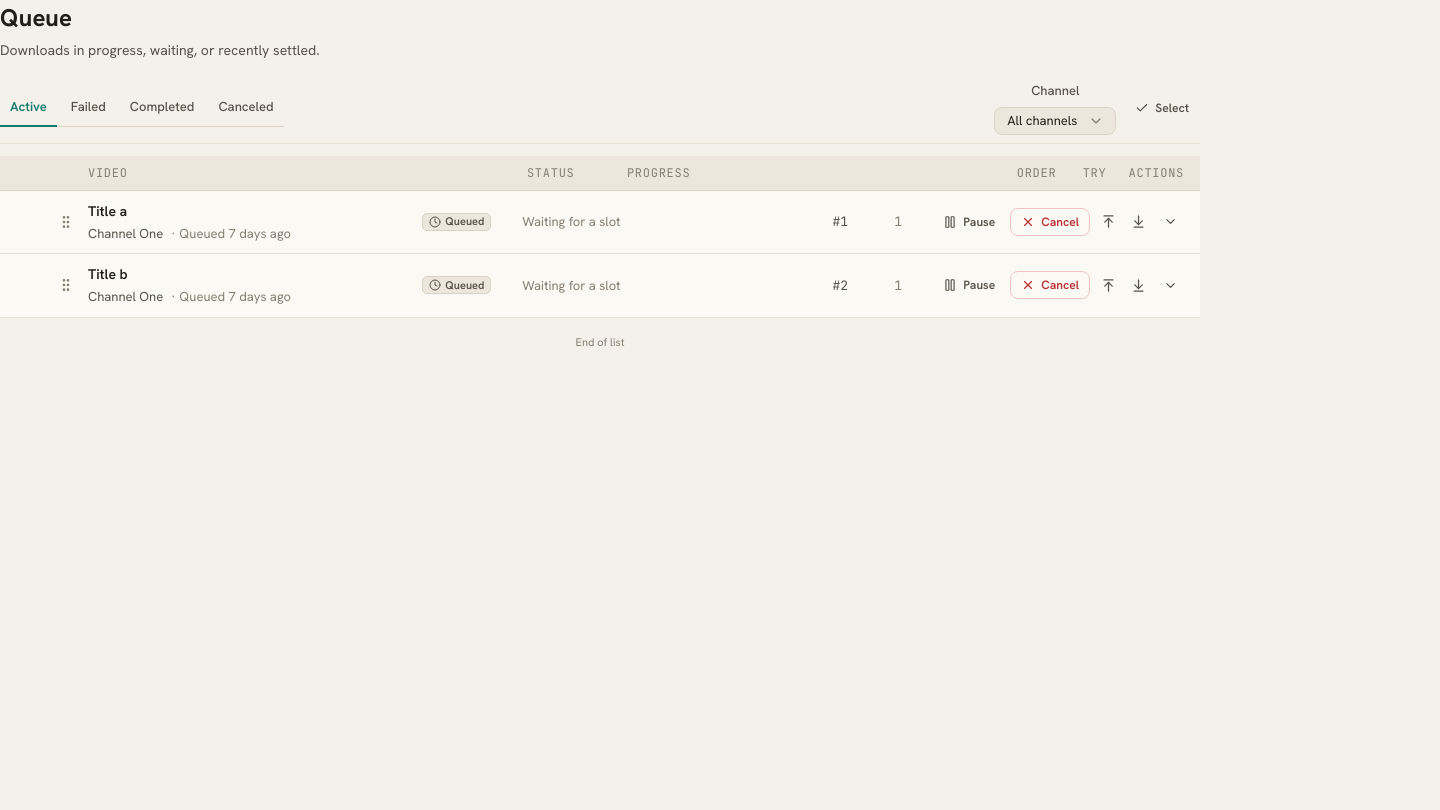
QueuePage — re-audit cosmetic backlog › §S6-9: the bulk-cancel confirm uses the plural "Keep them" dismiss label
The image size is (1440, 810).
Expected: the link "Title a" is shown, top-left (88, 200), bottom-right (127, 222)
Click the button "Select" at (1162, 108), box top-left (1124, 94), bottom-right (1200, 122)
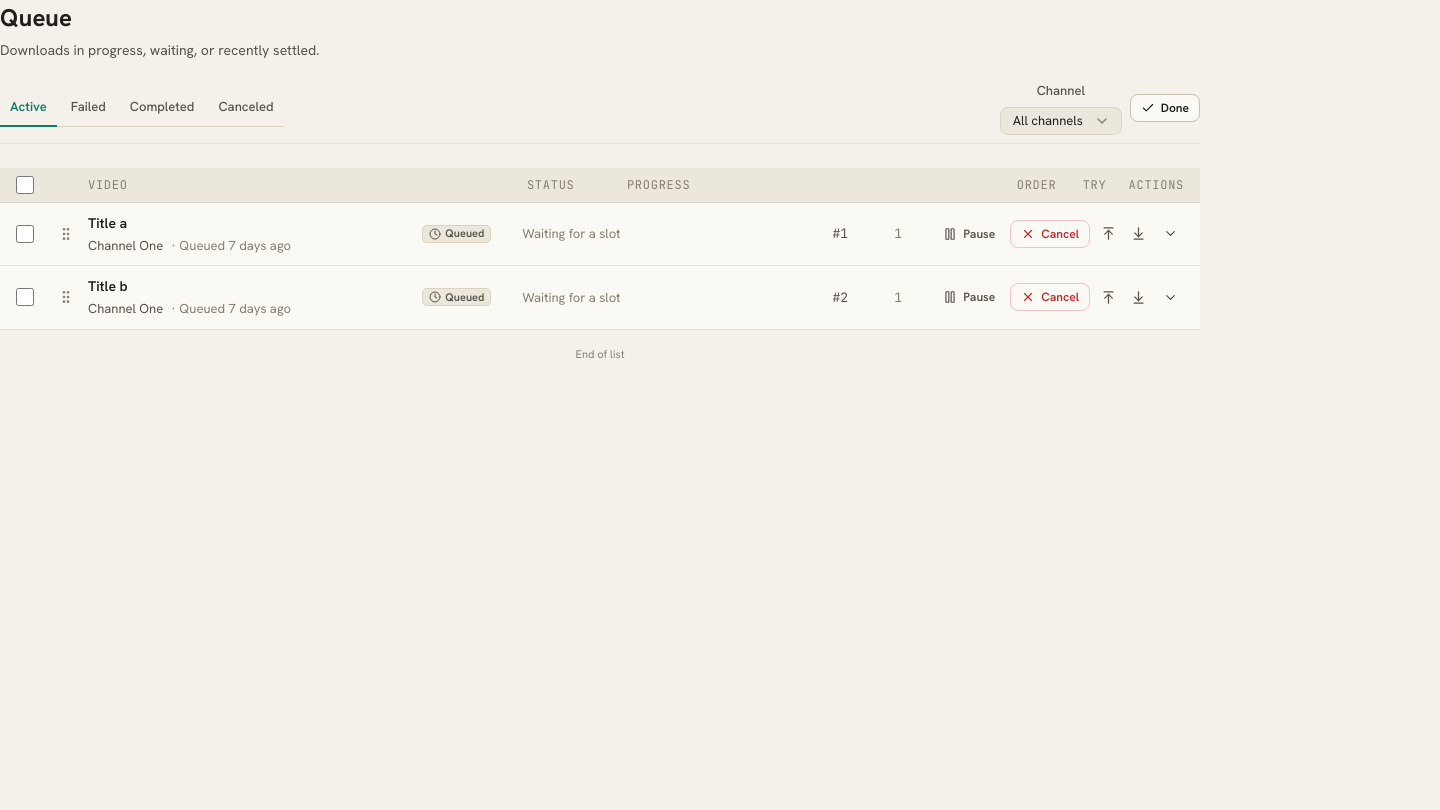
Click the checkbox named "select all" next to "Video" at (25, 184), box top-left (16, 176), bottom-right (34, 194)
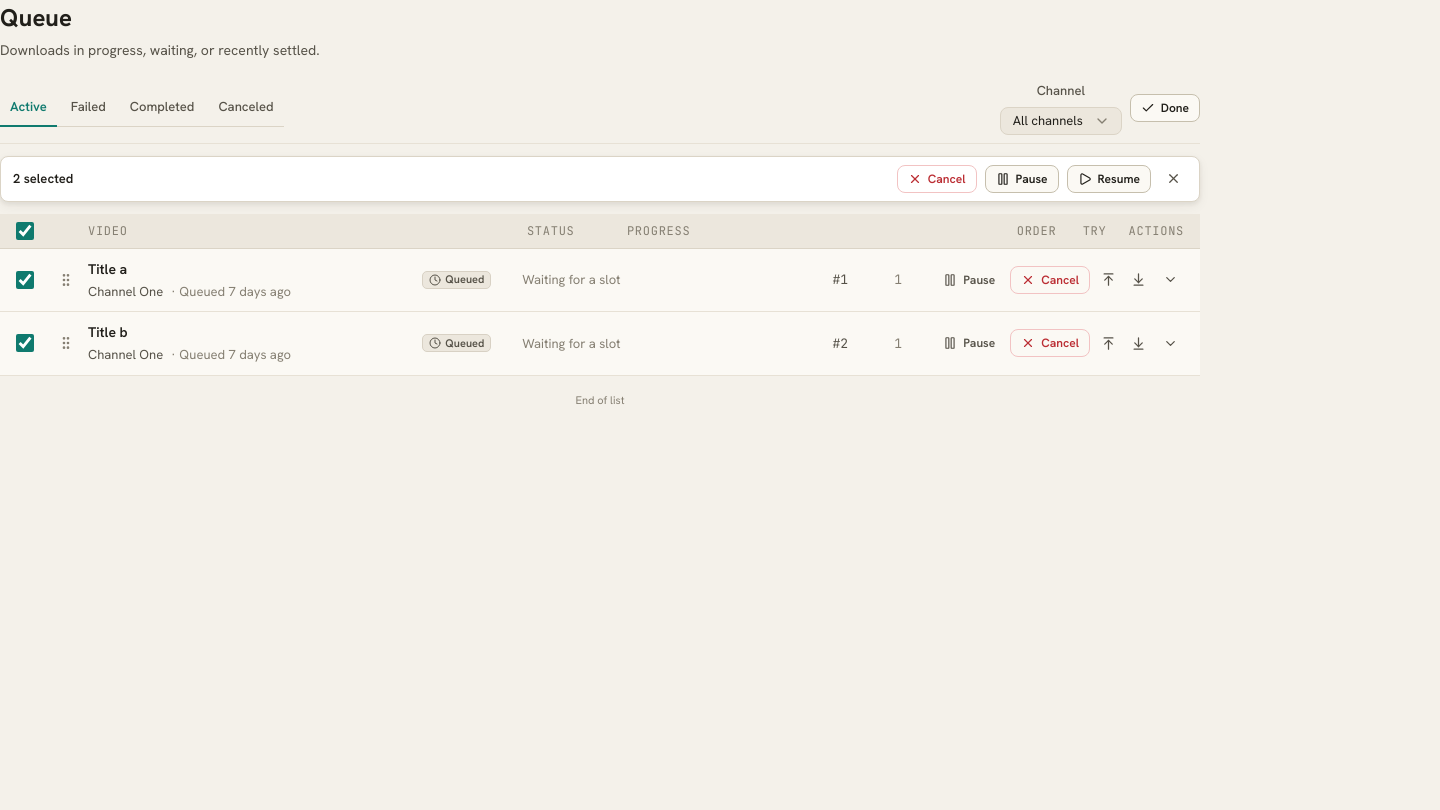
Click the button "Cancel" in the row of "2 selected" at (937, 178), box top-left (897, 164), bottom-right (977, 192)
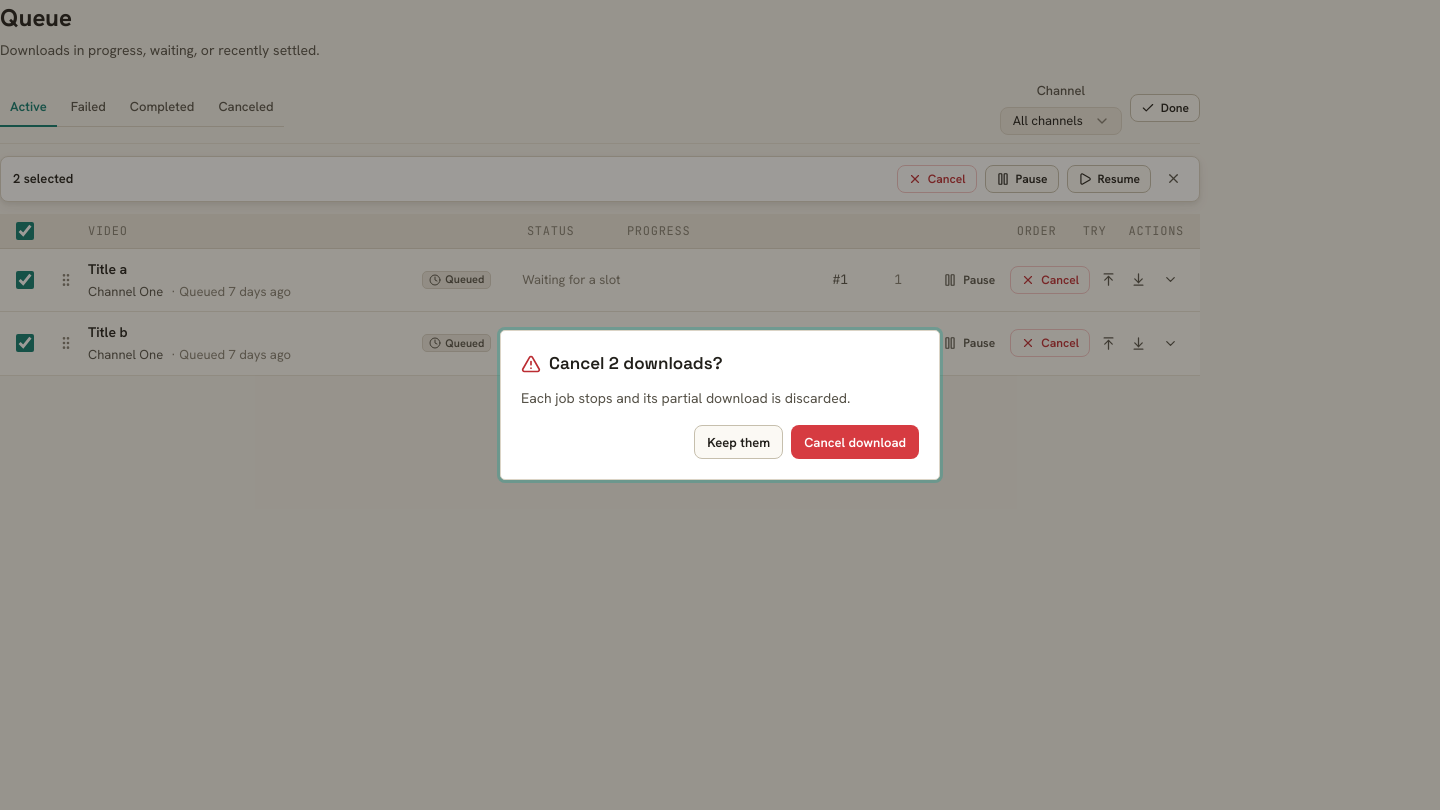
Now the heading "Cancel 2 downloads?" is shown, box top-left (549, 351), bottom-right (722, 376)
Now the button "Keep them" is shown, box top-left (694, 425), bottom-right (783, 459)
